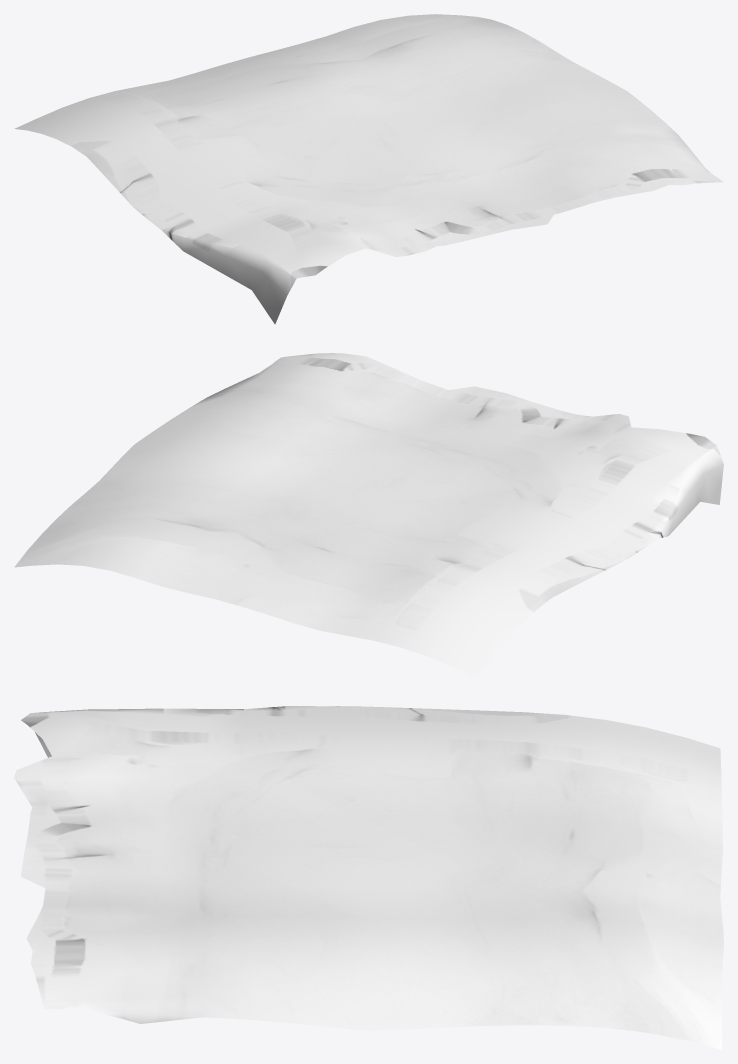
File: prop_Rock_Platform_Ground.fbx
3 views of the same model, one above another, from view 1: azimuth 30°, elevation 25°; view 2: azimuth 150°, elevation 25°; view 3: azimuth 270°, elevation 25° (orthographic). The views are drawn at different scales.
Visible parts, largest first — view 1: prop_Rock_Platform_Ground; view 2: prop_Rock_Platform_Ground; view 3: prop_Rock_Platform_Ground.
Part boxes in pixels (x1=…): prop_Rock_Platform_Ground: x1=14, y1=14, x2=723, y2=324; prop_Rock_Platform_Ground: x1=14, y1=353, x2=723, y2=677; prop_Rock_Platform_Ground: x1=14, y1=706, x2=723, y2=1049.
Size of the model in its own units: 1125 by 126 by 1057.
